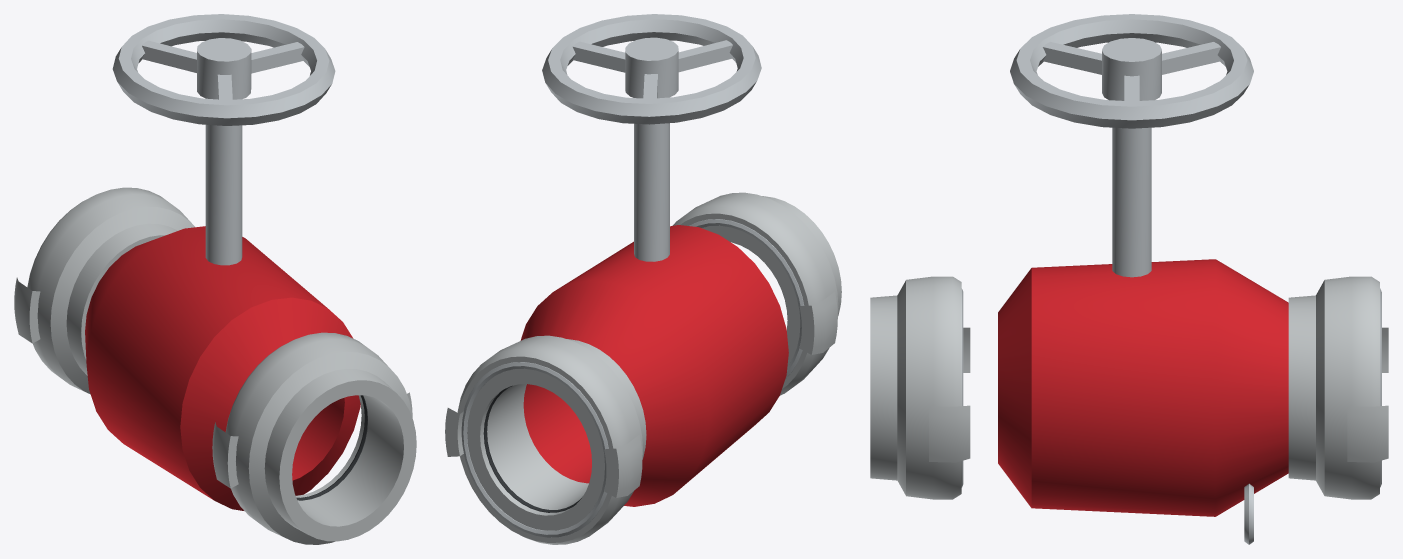
File: ob_gate_valve_2.glb
3 views of the same model, side by side, from view 1: azimuth 30°, elevation 25°; view 2: azimuth 150°, elevation 25°; view 3: azimuth 270°, elevation 25° (orthographic). The views are drawn at different scales.
Parts seen in each view (by area): view 1: ob_gate_valve_2; view 2: ob_gate_valve_2; view 3: ob_gate_valve_2.
Part boxes in pixels (x1,y1,x2,y2): ob_gate_valve_2: (14,14,416,544); ob_gate_valve_2: (445,14,841,544); ob_gate_valve_2: (870,14,1388,544).
Bounding box in the file's own units: 0.18 × 0.35 × 0.36.
